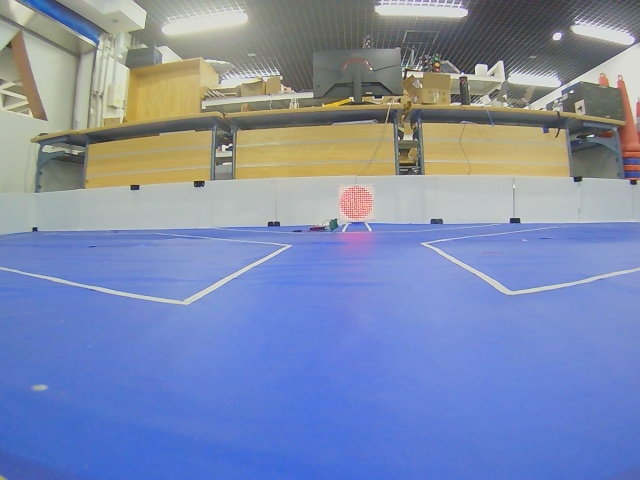red: (339, 185, 374, 222)
